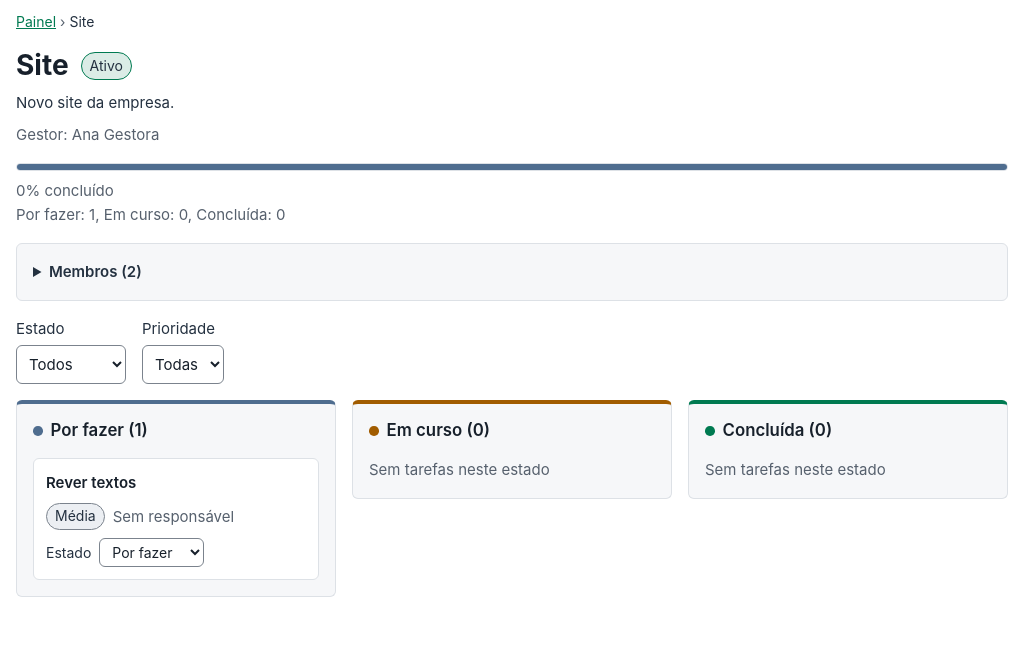
ProjectView: projeto, equipa e estado nos cartões (US07, US09, US10, US18) › um Membro muda o estado no cartão: a tarefa muda de grupo e o progresso atualiza (US07, US09)
Select "Em curso" in the dropdown labelled "Estado" below "Rever textos" at (152, 553), box [99,538,204,567]
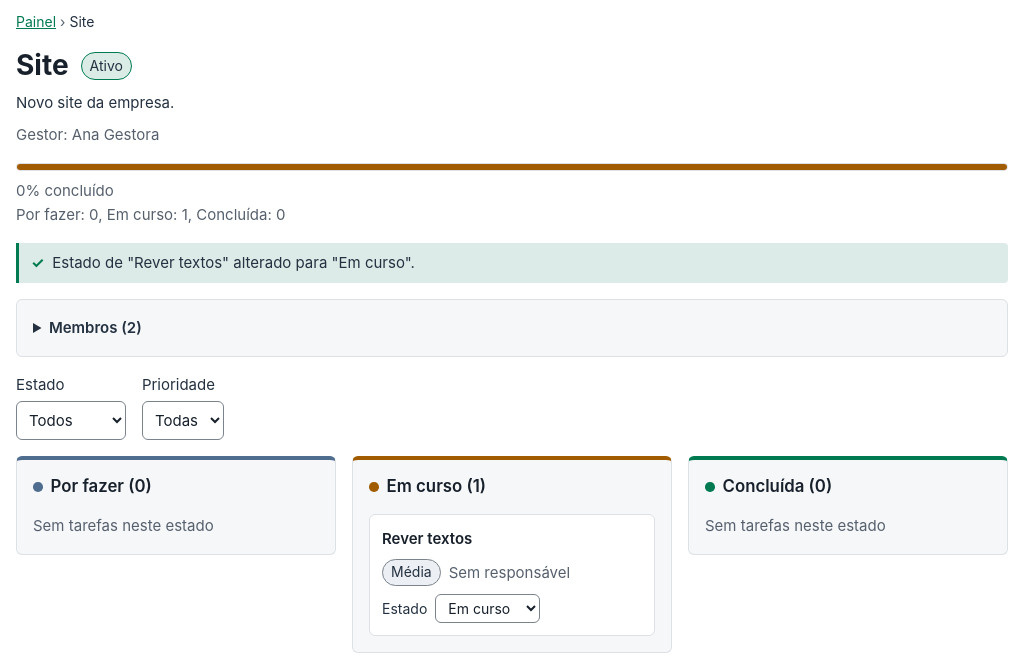
Expected: the text "Estado de \"Rever textos\" alterado para \"Em curso\"." is shown, [16,243,1008,283]
Expected: the text with test id "progress-counts" reads "Por fazer: 0, Em curso: 1, Concluída: 0", [16,205,285,224]
